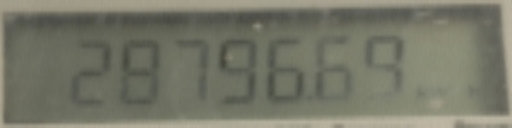2: (72, 21, 111, 117)
6: (266, 23, 305, 119), (320, 25, 359, 121)
7: (172, 25, 211, 121)
8: (122, 23, 161, 119)
9: (218, 23, 257, 119), (363, 27, 402, 123)
d: (305, 90, 316, 107)
